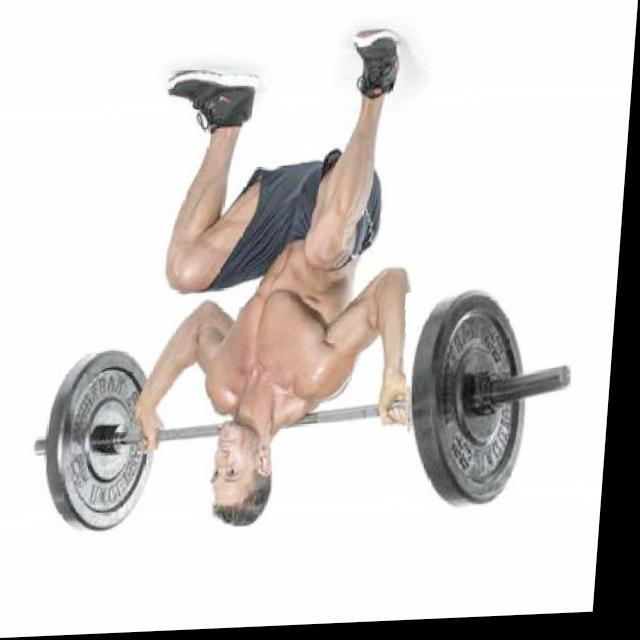barbell: (403, 281, 601, 530)
